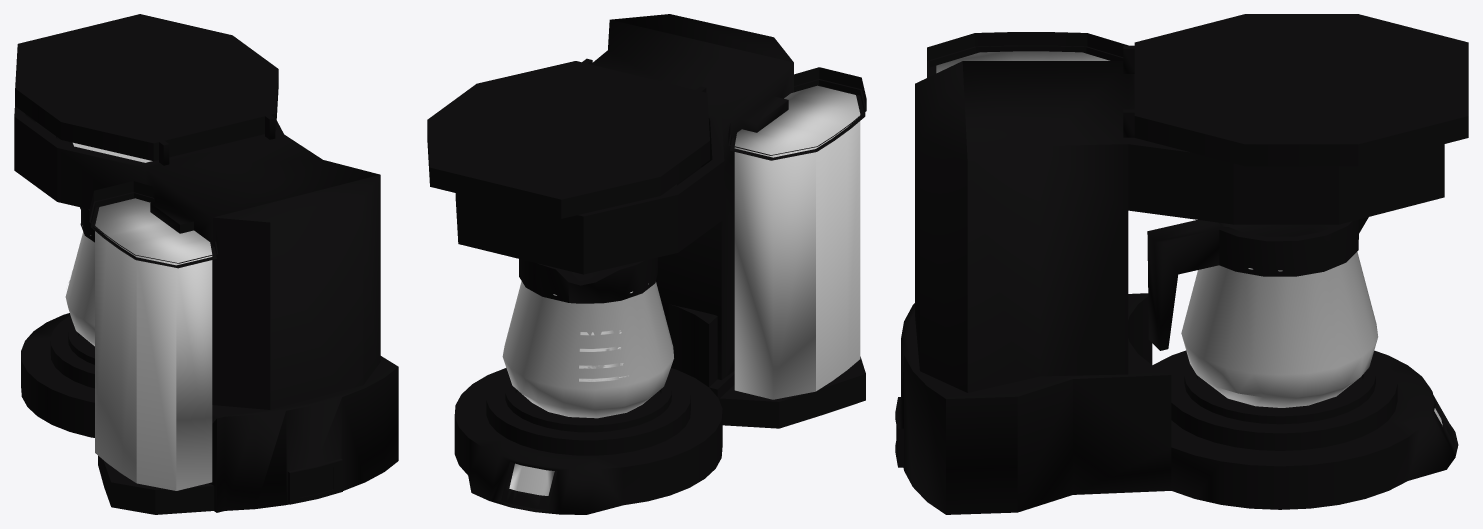
Rendered from CoffeeMaker.obj.
The picture shows the model from 3 angles, left to right: view 1: azimuth 30°, elevation 25°; view 2: azimuth 150°, elevation 25°; view 3: azimuth 270°, elevation 25°; orthographic projection. The views are drawn at different scales.
Parts seen in each view (by area): view 1: Cube.104, Cube.103, Cylinder.036; view 2: Cube.104, Cube.103, Cylinder.036; view 3: Cube.104, Cylinder.036, Cube.103.
Boxes of the visible parts, x1,y1,x2,y2 form: Cube.104: [14, 14, 398, 514]; Cube.103: [89, 181, 218, 490]; Cylinder.036: [65, 207, 94, 346]; Cube.104: [427, 14, 865, 514]; Cube.103: [728, 67, 866, 399]; Cylinder.036: [502, 257, 673, 418]; Cube.104: [895, 14, 1468, 514]; Cylinder.036: [1147, 217, 1378, 407]; Cube.103: [927, 32, 1128, 77].
Bounding box in the file's own units: 4.82 × 5.25 × 7.35.
